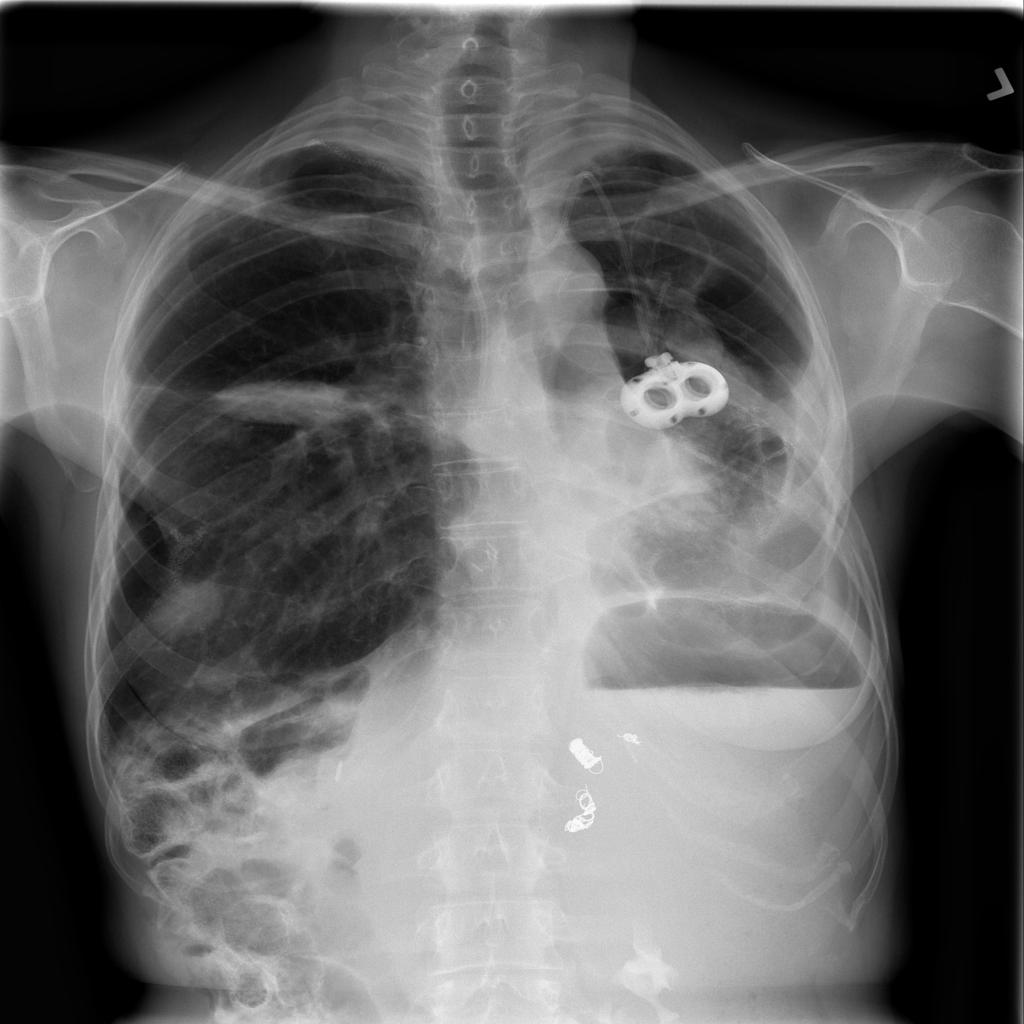nodule: (131, 556, 250, 655), (174, 640, 258, 701)
